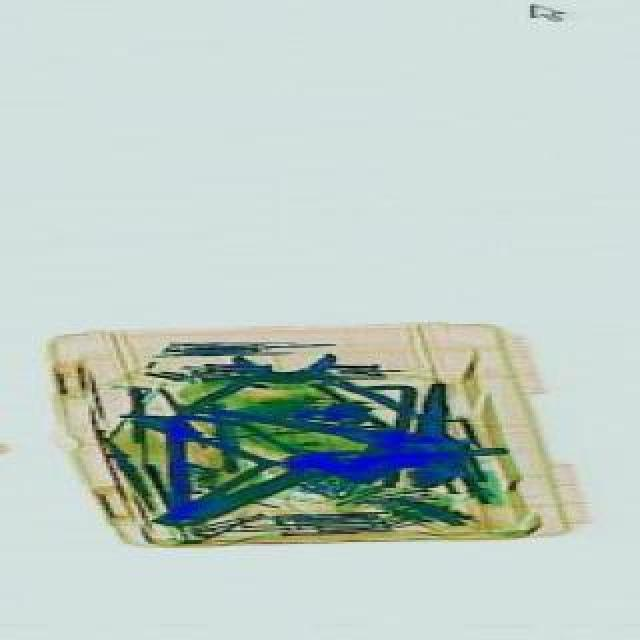wrench: (166, 346, 412, 438)
